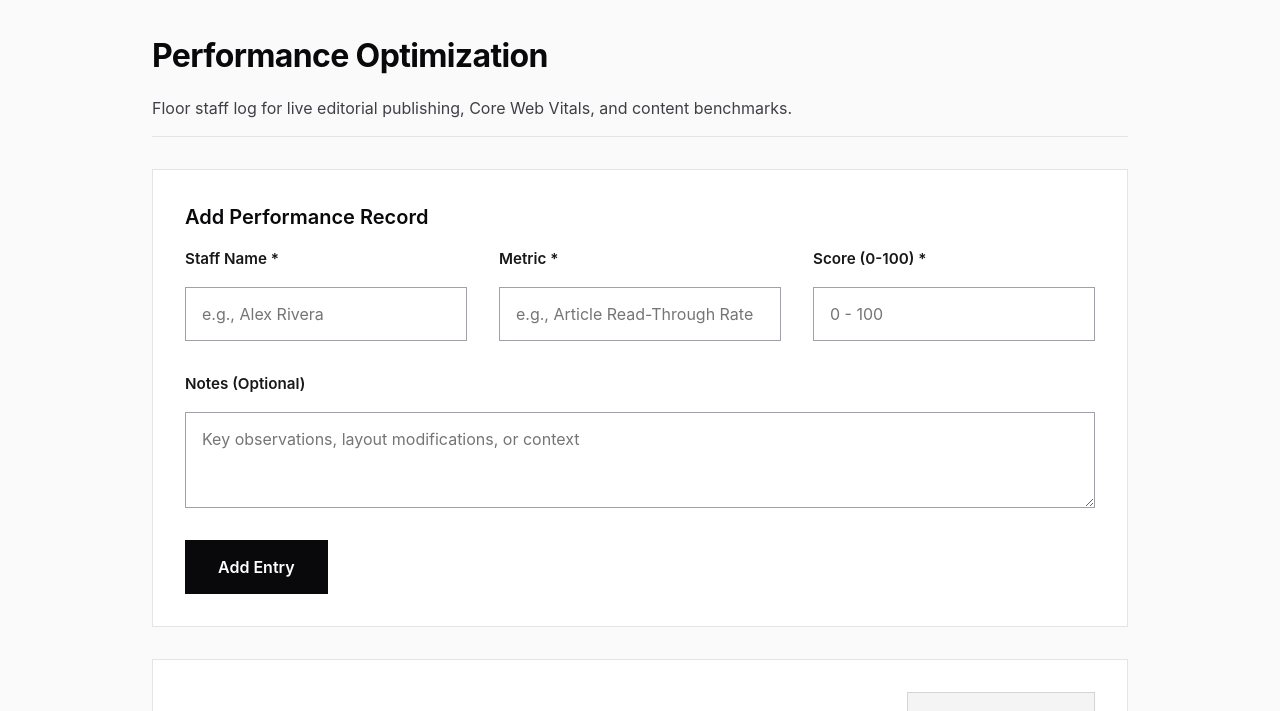
Test: PerformanceOptimization Component › 4. Invalid Input › blocks submit, highlights fields with aria-invalid="true", and displays linked aria-describedby errors
Note: Click submit with empty form
Click the button "Add Entry".
click(256, 567)  # box [185,540,328,594]
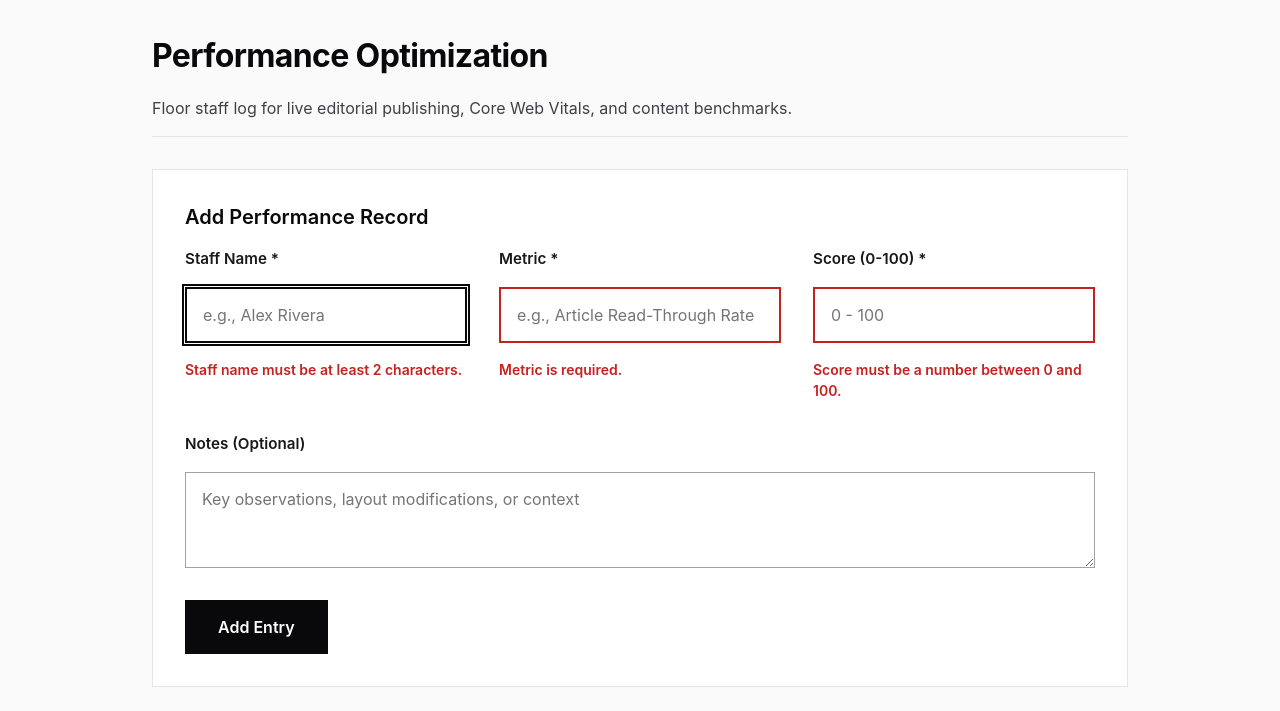
Expected: the field labelled "Staff Name *" is marked as invalid, [185,287,467,343]
Expected: the field labelled "Staff Name *" has attribute aria-describedby, [185,287,467,343]
Expected: the field labelled "Metric *" is marked as invalid, [499,287,781,343]
